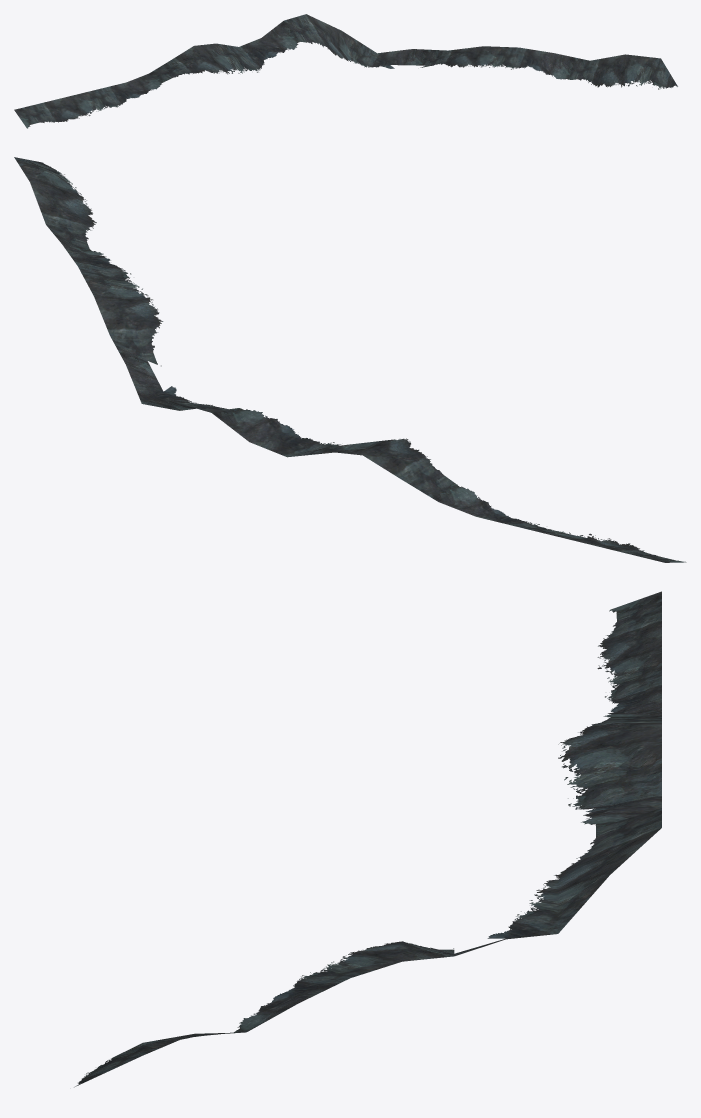
Rendered from blend_weeds.fbx.
3 views of the same model, one above another, from view 1: azimuth 30°, elevation 25°; view 2: azimuth 150°, elevation 25°; view 3: azimuth 270°, elevation 25° (orthographic). The views are drawn at different scales.
Visible parts, largest first — view 1: New_terrain/Material_#238682132; view 2: New_terrain/Material_#238682132; view 3: New_terrain/Material_#238682132.
Boxes of the visible parts, x1,y1,x2,y2 form: New_terrain/Material_#238682132: [14, 14, 677, 128]; New_terrain/Material_#238682132: [14, 157, 686, 562]; New_terrain/Material_#238682132: [74, 591, 661, 1087].
Size of the model in its own units: 57.5 by 3.57 by 30.
